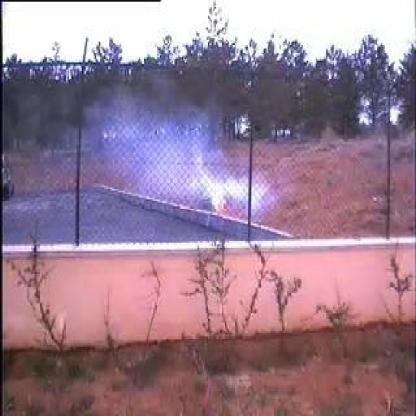-: (86, 92, 266, 236)
